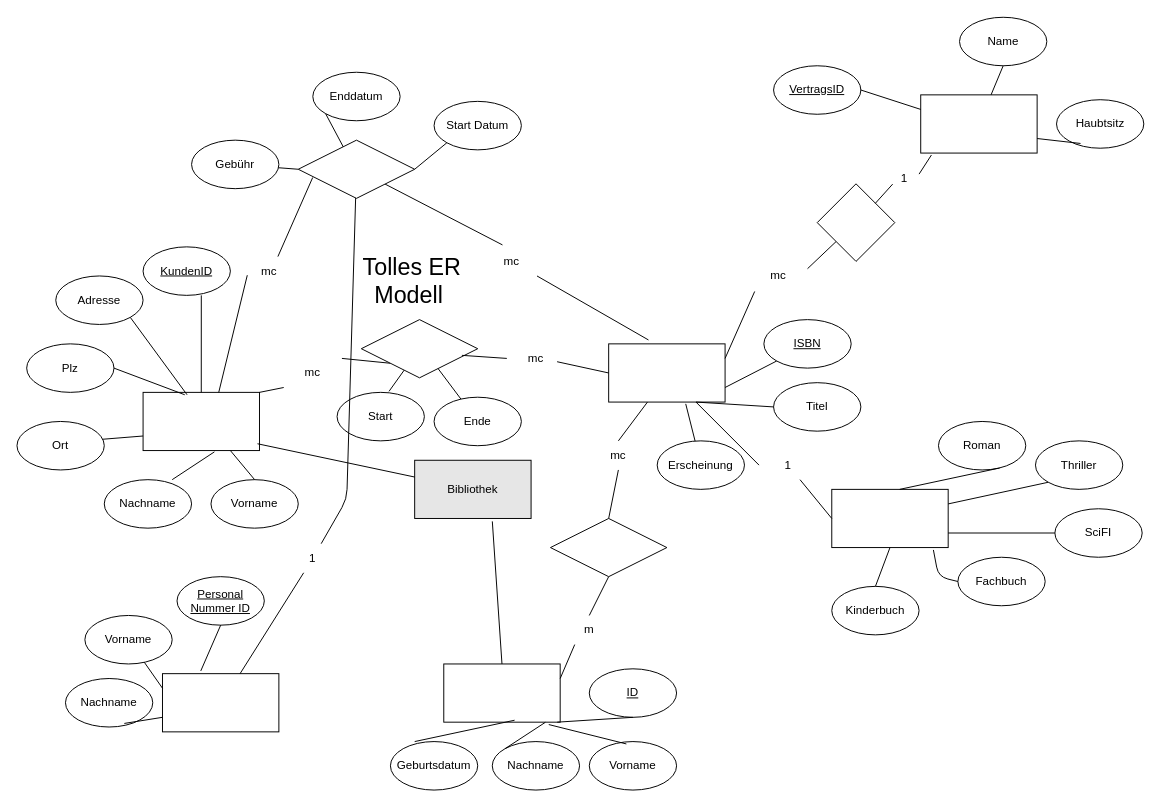
The diagram is 1161 pixels wide and 807 high, and some of its shapes have lost their labels. Here are the shapes that lost their labels. From the top down, the box of each, then its label:
(920, 94, 1037, 153): Verlag
(297, 139, 415, 198): leiht aus
(816, 183, 895, 261): veröffentlicht
(360, 319, 478, 378): Reserviert
(608, 343, 725, 402): Buch
(142, 391, 259, 451): Kunde
(831, 488, 948, 548): Kathegorie
(550, 517, 667, 577): schreibt
(162, 673, 279, 732): Mitarbeiter
(443, 663, 560, 722): Autor
